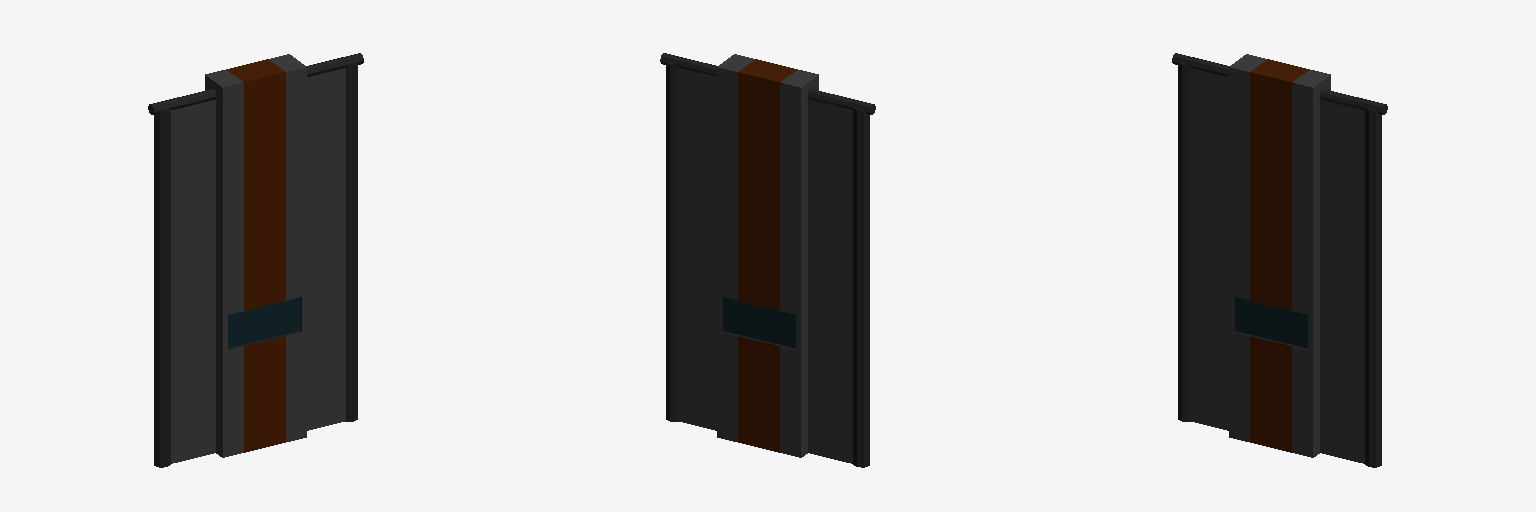
Rendered from Door_Cylinder_005.obj.
3 views of the same model, side by side, from view 1: azimuth 30°, elevation 25°; view 2: azimuth 150°, elevation 25°; view 3: azimuth 330°, elevation 25° (orthographic).
Parts seen in each view (by area): view 1: Door_Cylinder.005; view 2: Door_Cylinder.005; view 3: Door_Cylinder.005.
Part boxes in pixels (left/top/right/bottom): Door_Cylinder.005: left=148, top=53, right=363, bottom=467; Door_Cylinder.005: left=660, top=53, right=875, bottom=467; Door_Cylinder.005: left=1172, top=53, right=1387, bottom=467.
Size of the model in its own units: 0.6896 by 1.16 by 0.1021.